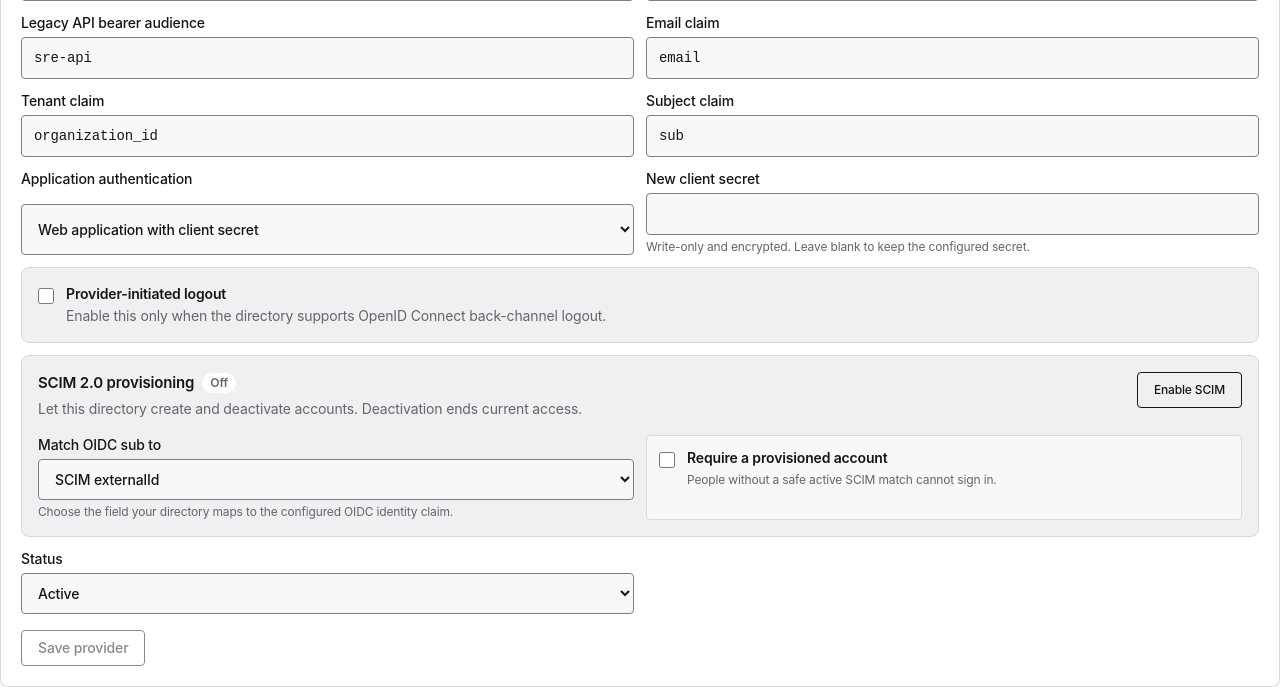
Test: does not discard a one-time SCIM token when the follow-up refresh fails
(page scrolled)
Click the button "Enable SCIM".
click(1189, 390)  # box [1137,372,1242,408]
(page scrolled)
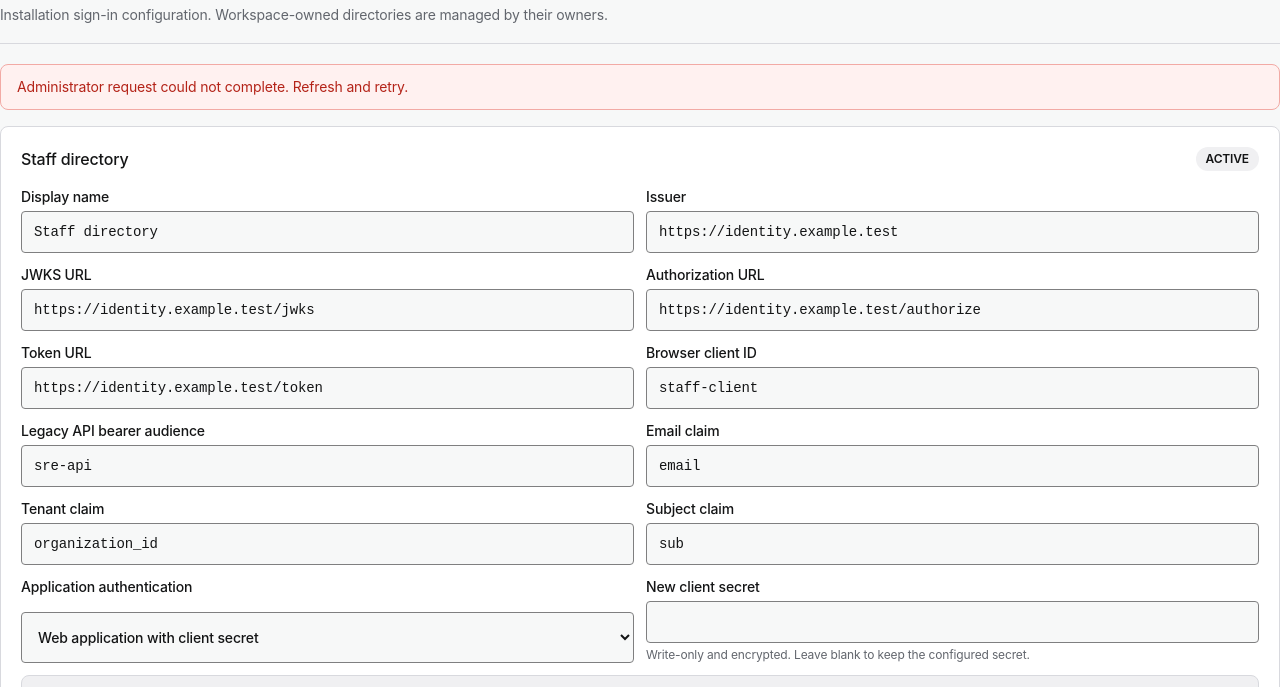
Check: the text "Administrator request could not complete. Refresh and retry." is shown, box [17,77,408,97]
